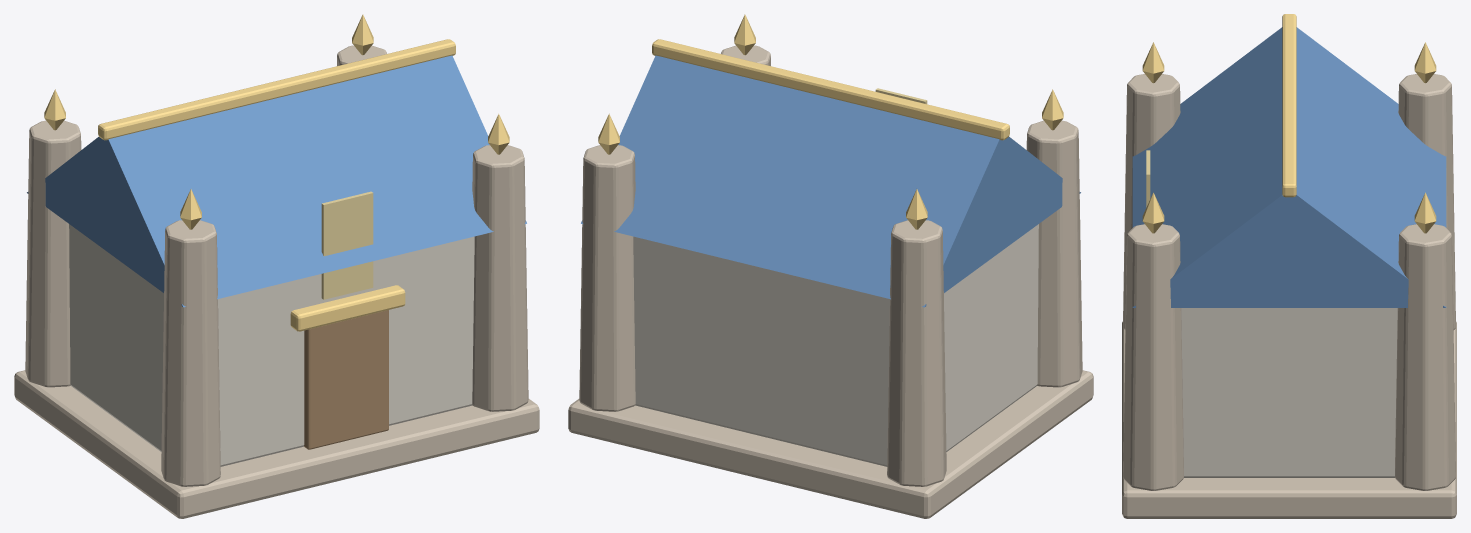
Rendered from rax_melee_dawn.glb.
3 views of the same model, side by side, from view 1: azimuth 30°, elevation 25°; view 2: azimuth 150°, elevation 25°; view 3: azimuth 270°, elevation 25° (orthographic).
Visible parts, largest first — view 1: roof, hall, found, corner-1-1, corner1-1, corner-11, door, ridge, banner, lintel; view 2: roof, hall, found, corner-11, corner11, corner-1-1, ridge; view 3: roof, hall, corner1-1, corner11, found, corner-1-1, corner-11, ridge, cg1-1, cg11, cg-1-1, cg-11.
Part boxes in pixels (x1,y1,x2,y2): roof: (27, 55, 526, 307); hall: (69, 224, 474, 466); found: (14, 370, 539, 518); corner-1-1: (161, 220, 220, 486); corner1-1: (472, 145, 528, 411); corner-11: (25, 120, 81, 387); door: (304, 310, 388, 449); ridge: (98, 39, 455, 140); banner: (321, 191, 373, 299); lintel: (290, 285, 405, 331); roof: (581, 55, 1080, 307); hall: (633, 224, 1038, 466); found: (568, 370, 1093, 518); corner-11: (887, 220, 946, 486); corner11: (579, 145, 635, 411); corner-1-1: (1026, 120, 1082, 387); ridge: (652, 39, 1009, 140); roof: (1132, 27, 1446, 307); hall: (1181, 308, 1397, 477); corner1-1: (1123, 224, 1183, 490); corner11: (1395, 224, 1455, 490); found: (1122, 321, 1456, 518); corner-1-1: (1123, 74, 1180, 329); corner-11: (1398, 74, 1455, 329); ridge: (1282, 14, 1296, 197); cg1-1: (1142, 192, 1164, 233); cg11: (1414, 192, 1436, 233); cg-1-1: (1142, 42, 1164, 83); cg-11: (1414, 42, 1436, 83).
Size of the model in its own units: 4 by 3.52 by 3.2.
